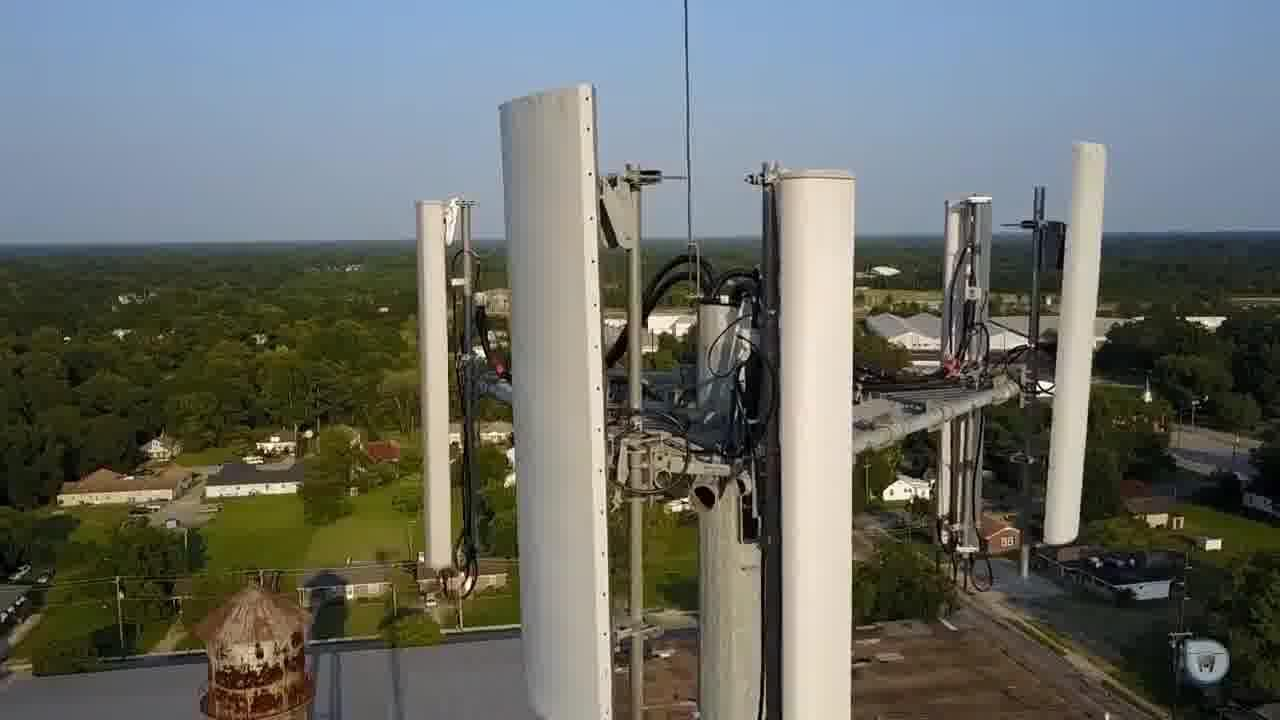antenna: (489, 71, 638, 720), (757, 153, 855, 720), (1011, 121, 1123, 564), (397, 193, 480, 574), (931, 193, 1002, 558)
